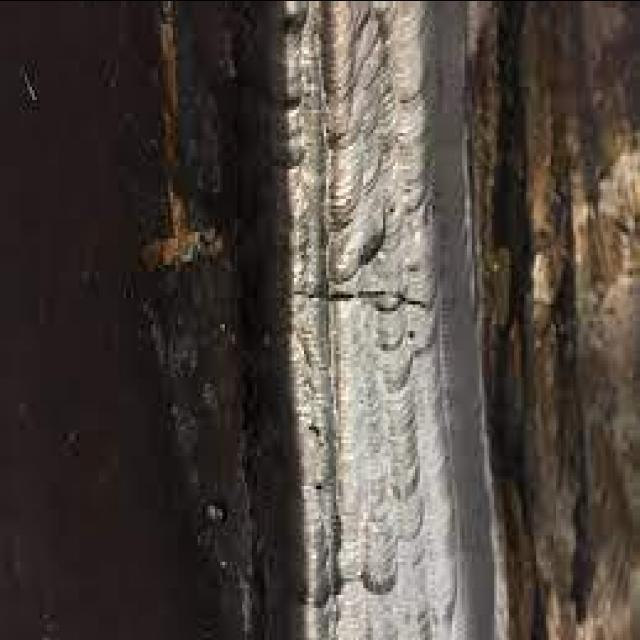Crack: (284, 284, 433, 313)
